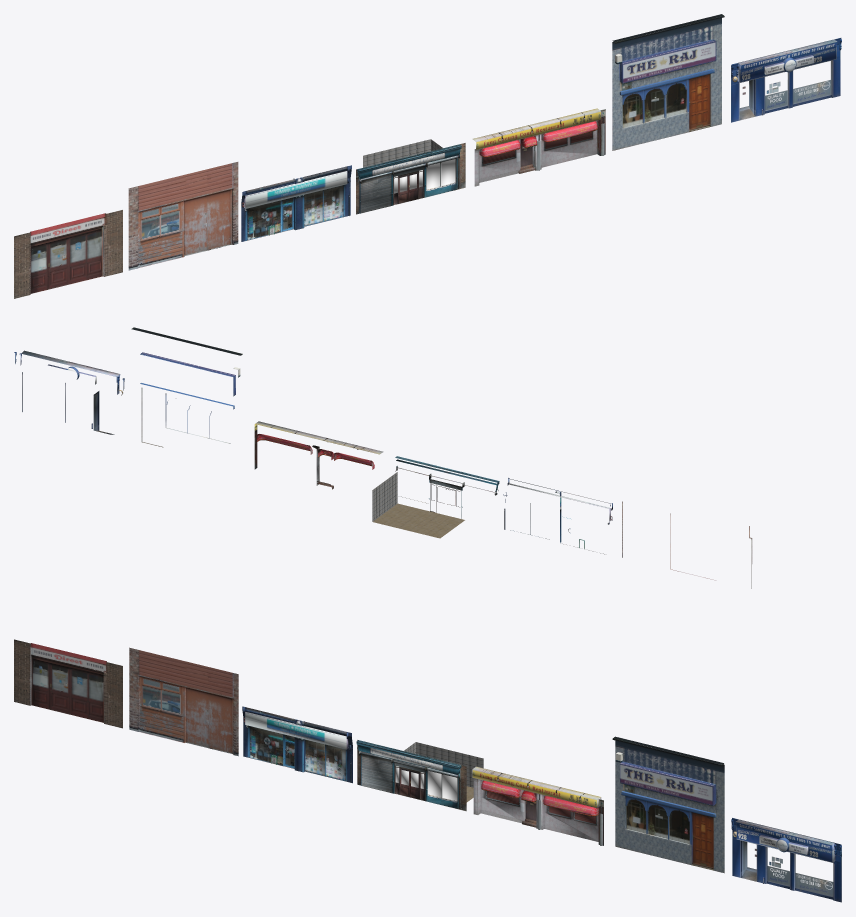
Rendered from buildings_pack4.glb.
The picture shows the model from 3 angles, top to bottom: view 1: azimuth 30°, elevation 25°; view 2: azimuth 150°, elevation 25°; view 3: azimuth 330°, elevation 25°; orthographic projection.
Visible parts, largest first — view 1: shop_front8, shop_front7, shop_front5, shop_front6, shop_front10, shop_front9, shop_front11; view 2: shop_front10, shop_front6, shop_front8, shop_front11, shop_front9; view 3: shop_front8, shop_front7, shop_front5, shop_front10, shop_front6, shop_front9, shop_front11.
Part boxes in pixels (x1,y1,x2,y2): shop_front8: (612, 14, 724, 150); shop_front7: (128, 162, 238, 270); shop_front5: (14, 210, 122, 298); shop_front6: (472, 108, 605, 186); shop_front10: (356, 139, 465, 214); shop_front9: (241, 165, 351, 241); shop_front11: (731, 38, 841, 122); shop_front10: (372, 456, 499, 538); shop_front6: (254, 421, 383, 489); shop_front8: (131, 327, 242, 447); shop_front11: (14, 350, 124, 434); shop_front9: (503, 478, 612, 554); shop_front8: (612, 736, 724, 873); shop_front7: (129, 647, 238, 756); shop_front5: (14, 639, 122, 728); shop_front10: (356, 740, 483, 811); shop_front6: (472, 766, 603, 845); shop_front9: (242, 706, 352, 783); shop_front11: (731, 818, 841, 902).
Bounding box in the file's own units: 37.77 × 4.81 × 2.42.
12 materials, 11 textured.
